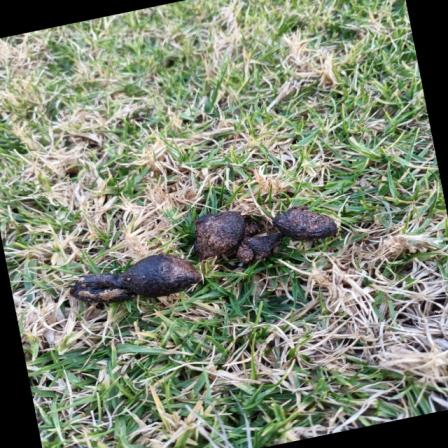dog-poop: (177, 199, 338, 270), (66, 259, 205, 302)
